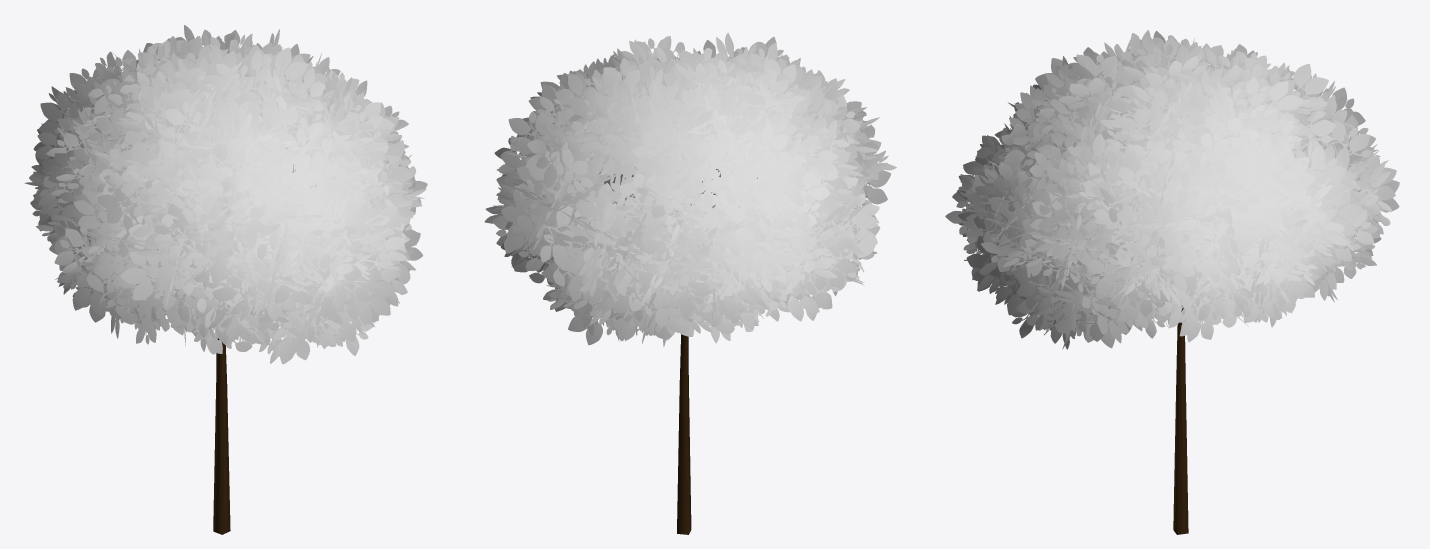
File: Tree1.fbx
The picture shows the model from 3 angles, left to right: view 1: azimuth 30°, elevation 25°; view 2: azimuth 150°, elevation 25°; view 3: azimuth 270°, elevation 25°; orthographic projection.
Visible parts, largest first — view 1: Leaves1_LOD_0, Trunk1_LOD_0; view 2: Leaves1_LOD_0, Trunk1_LOD_0; view 3: Leaves1_LOD_0, Trunk1_LOD_0.
Part boxes in pixels (x1,y1,x2,y2): Leaves1_LOD_0: [24, 25, 427, 364]; Trunk1_LOD_0: [213, 338, 230, 534]; Leaves1_LOD_0: [484, 33, 896, 346]; Trunk1_LOD_0: [677, 204, 691, 534]; Leaves1_LOD_0: [945, 30, 1399, 349]; Trunk1_LOD_0: [1173, 305, 1188, 534].
Size of what is drawn, in the model's own units: 504 by 640 by 560.
